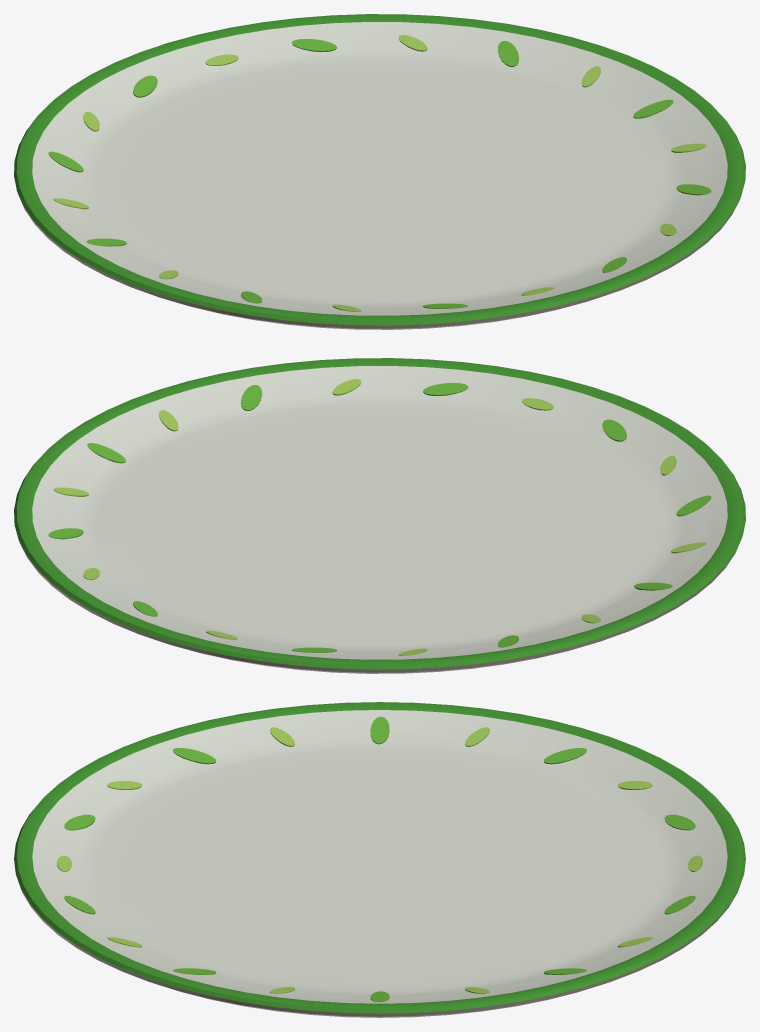
The model's file is plate_leaves.glb.
3 views of the same model, one above another, from view 1: azimuth 30°, elevation 25°; view 2: azimuth 150°, elevation 25°; view 3: azimuth 270°, elevation 25° (orthographic).
Parts seen in each view (by area): view 1: body; view 2: body; view 3: body.
Boxes of the visible parts, <box> form: body: <box>14,14,745,329</box>; body: <box>14,358,745,673</box>; body: <box>14,702,745,1017</box>.
Bounding box in the file's own units: 1.6 × 0.0939 × 1.6.
